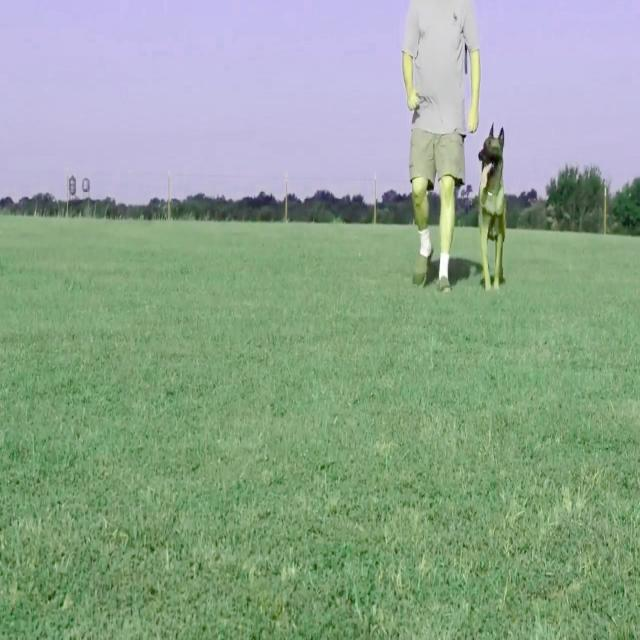Unleashed_Dog: (437, 121, 505, 291)
